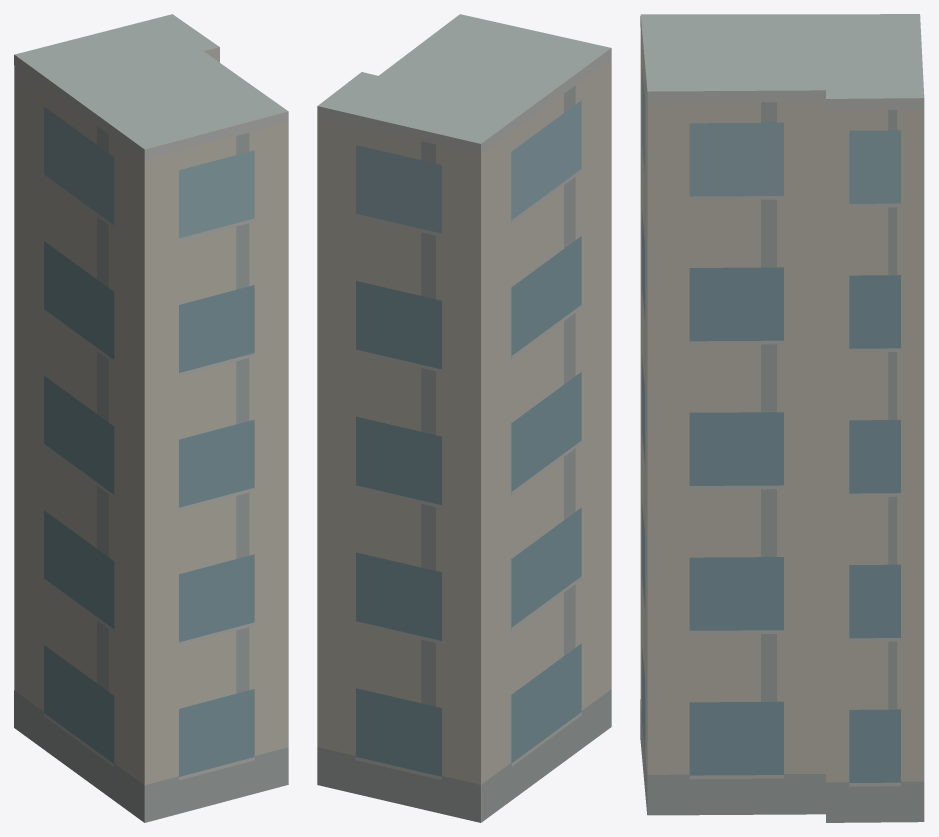
Rendered from survey-upis-32504887.glb.
3 renders of one model, left to right at view 1: azimuth 30°, elevation 25°; view 2: azimuth 150°, elevation 25°; view 3: azimuth 270°, elevation 25°, orthographic. The views are drawn at different scales.
Visible parts, largest first — view 1: survey-upis-32504887.tmp; view 2: survey-upis-32504887.tmp; view 3: survey-upis-32504887.tmp.
Part boxes in pixels (box(x1,y1,x2,y2)): survey-upis-32504887.tmp: box(14, 14, 288, 822); survey-upis-32504887.tmp: box(317, 14, 611, 822); survey-upis-32504887.tmp: box(640, 14, 924, 822).
Bounding box in the file's own units: 3.85 × 15.25 × 5.43.
